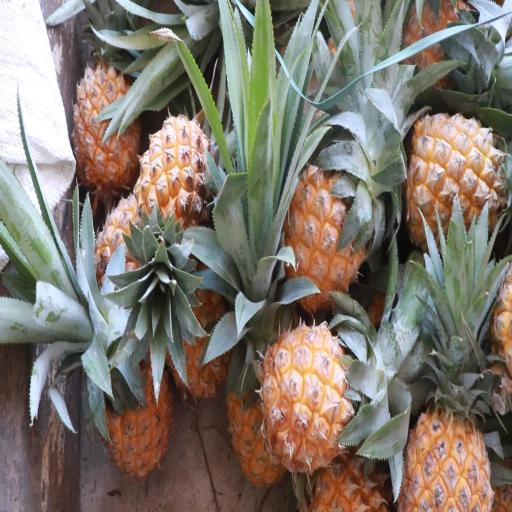Pineapple - v8 v1: (396, 281, 497, 512), (257, 318, 362, 488), (276, 148, 371, 316), (402, 109, 506, 261), (90, 299, 174, 485), (132, 113, 221, 249), (69, 54, 144, 196)
